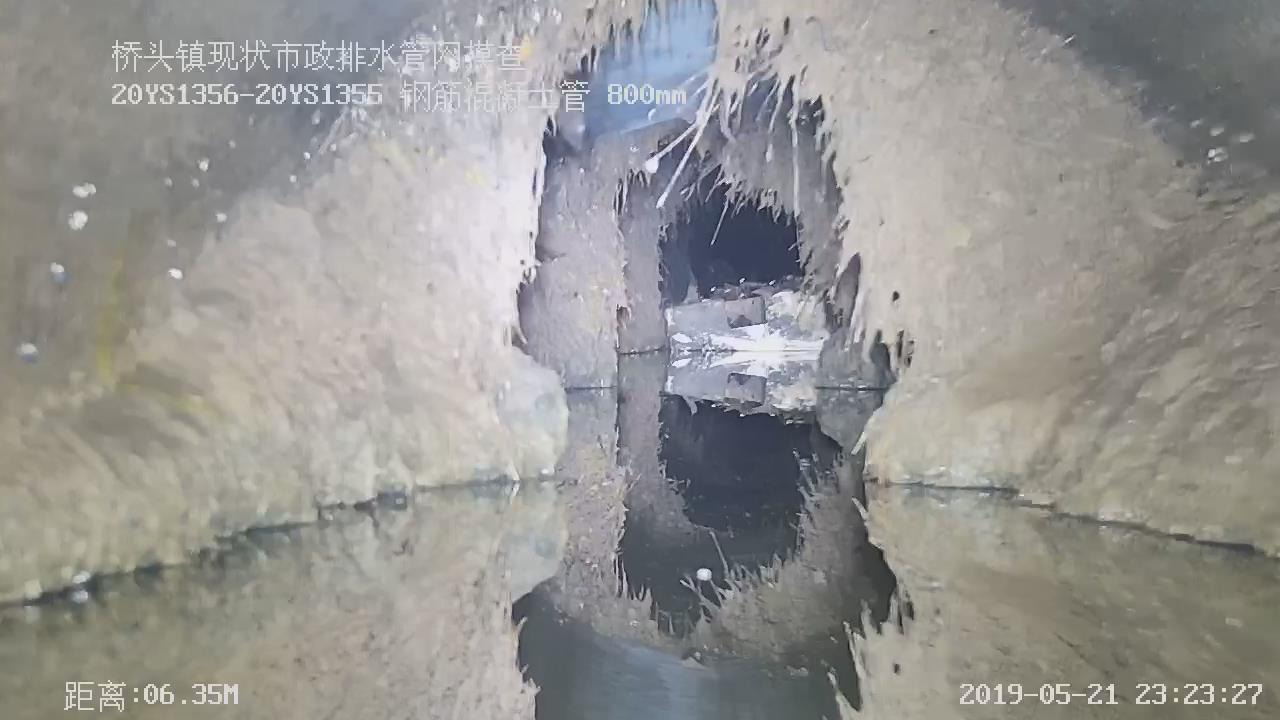SG: (0, 0, 709, 719), (696, 0, 1279, 719)
